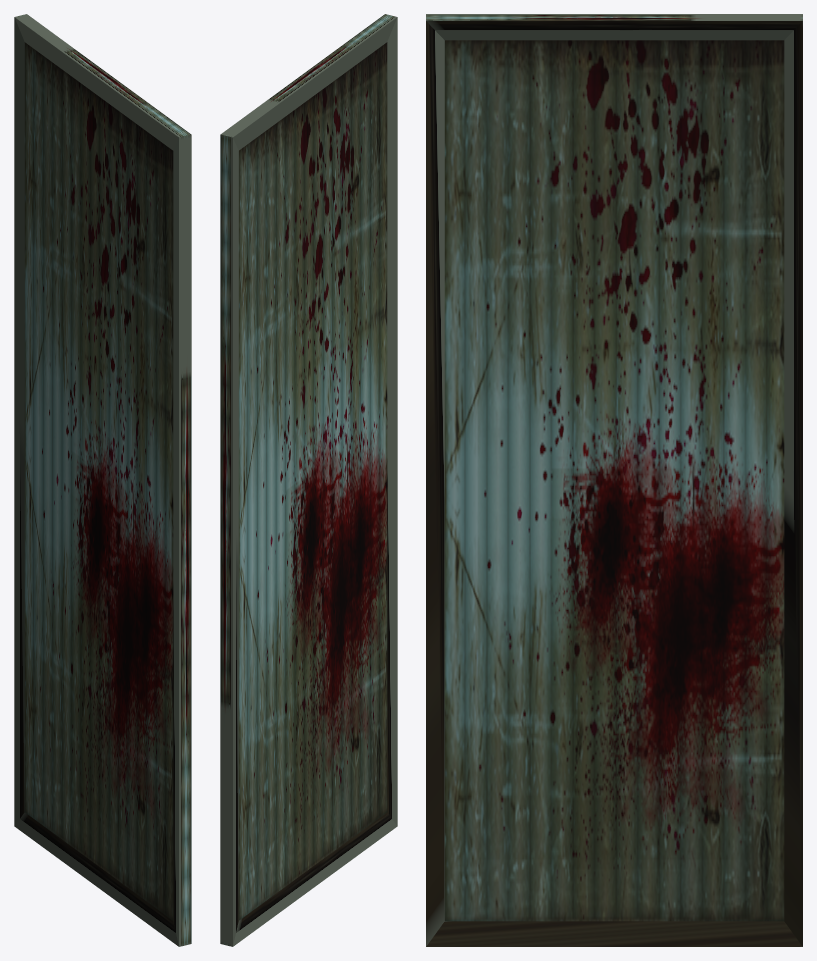
Rendered from Paticle.FBX.
3 renders of one model, left to right at view 1: azimuth 30°, elevation 25°; view 2: azimuth 150°, elevation 25°; view 3: azimuth 270°, elevation 25°, orthographic. The views are drawn at different scales.
Visible parts, largest first — view 1: Box003; view 2: Box003; view 3: Box003.
Boxes of the visible parts, x1,y1,x2,y2 form: Box003: (14,14,191,946); Box003: (220,14,397,946); Box003: (426,14,802,946).
Size of the model in its own units: 2.16 by 134 by 49.35.
